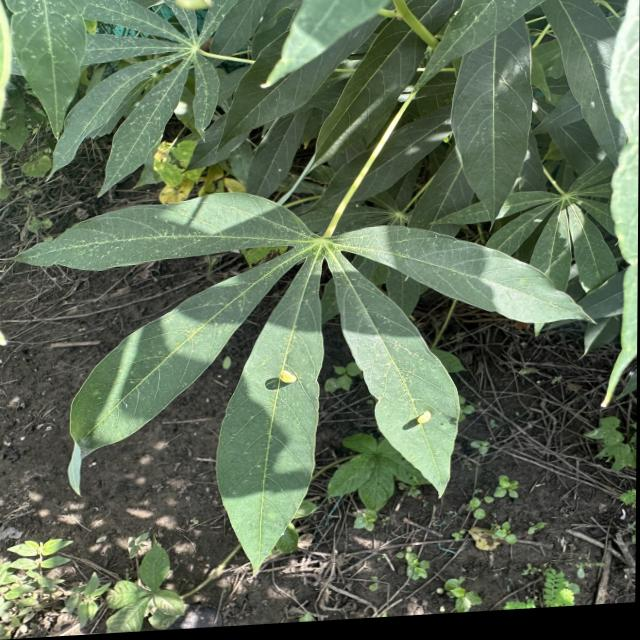Maleza: (9, 528, 196, 640)
Mosca: (275, 358, 303, 389), (410, 407, 437, 429), (585, 96, 601, 115)
